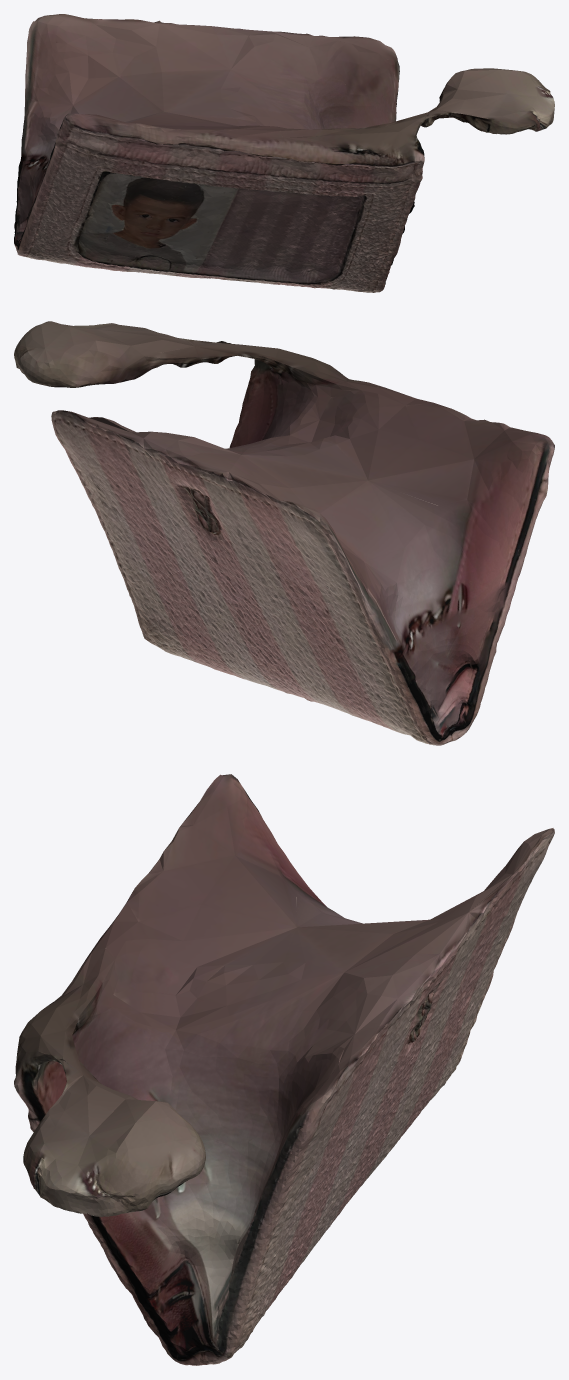
Rendered from Pink Stripe Wallet.glb.
3 renders of one model, top to bottom at view 1: azimuth 30°, elevation 25°; view 2: azimuth 150°, elevation 25°; view 3: azimuth 270°, elevation 25°, orthographic. The views are drawn at different scales.
Bounding box in the file's own units: 0.8634 × 0.446 × 0.5853.
1 material, 1 textured.
